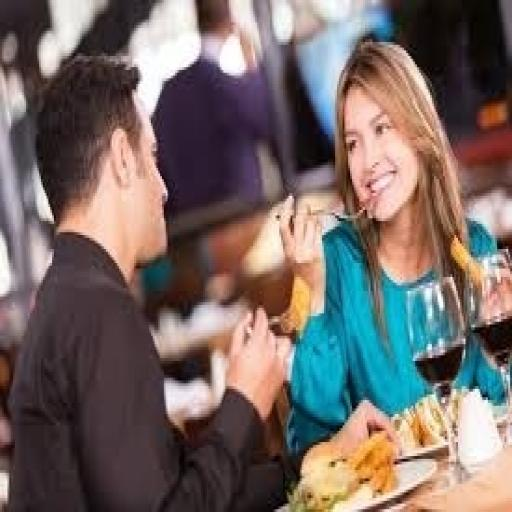eating: (6, 50, 290, 510), (278, 36, 508, 462)
